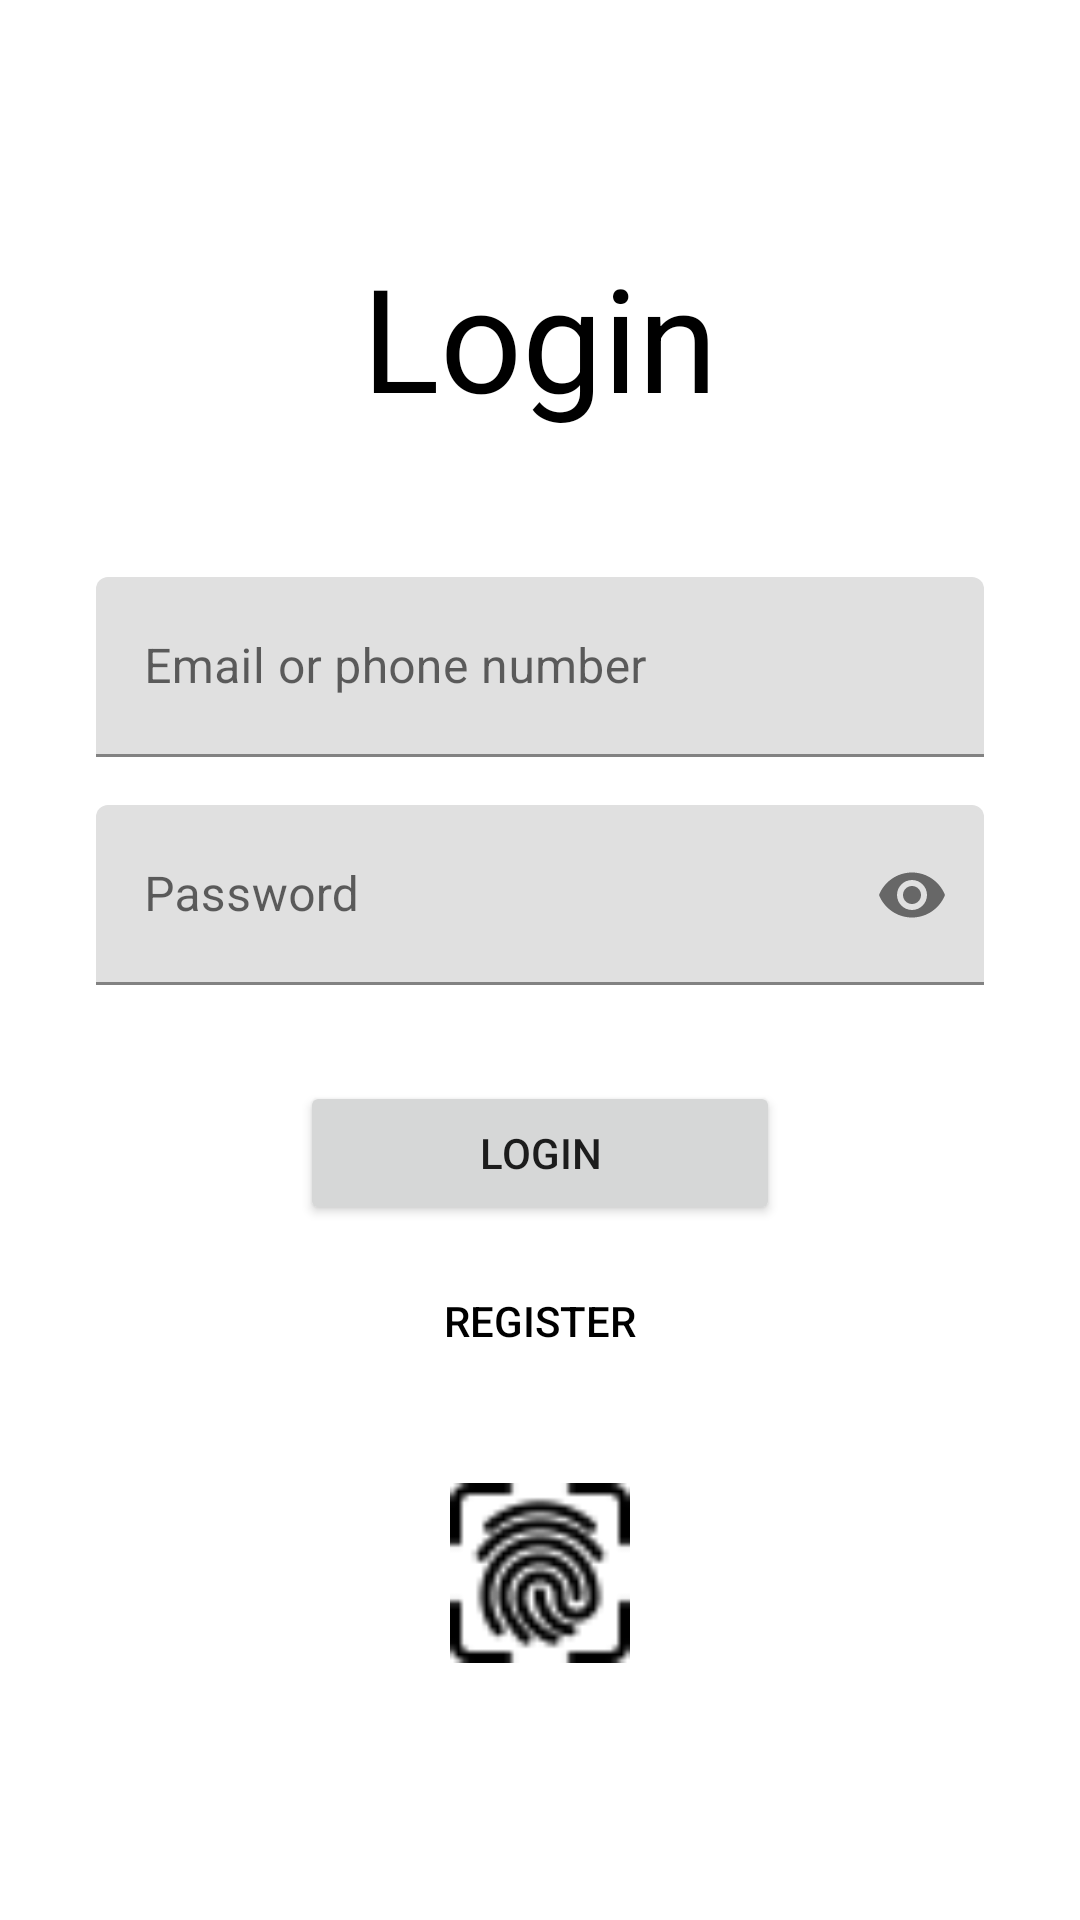

Named icons in this screenshot (1080 x 1920) and their bounding boxes, bbox=(x1, y1, x2, y2):
Fingerprint: bbox=(450, 1483, 630, 1663)
